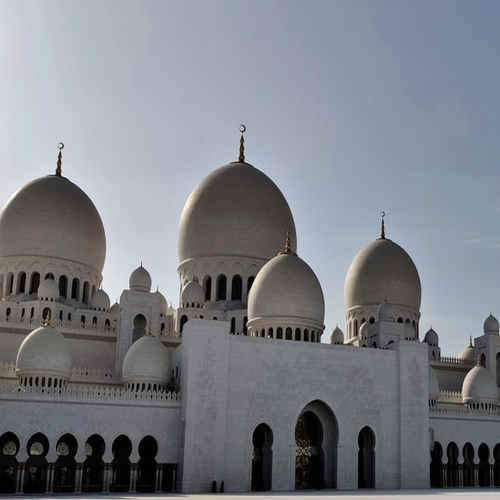Mosque: (4, 115, 492, 482)
